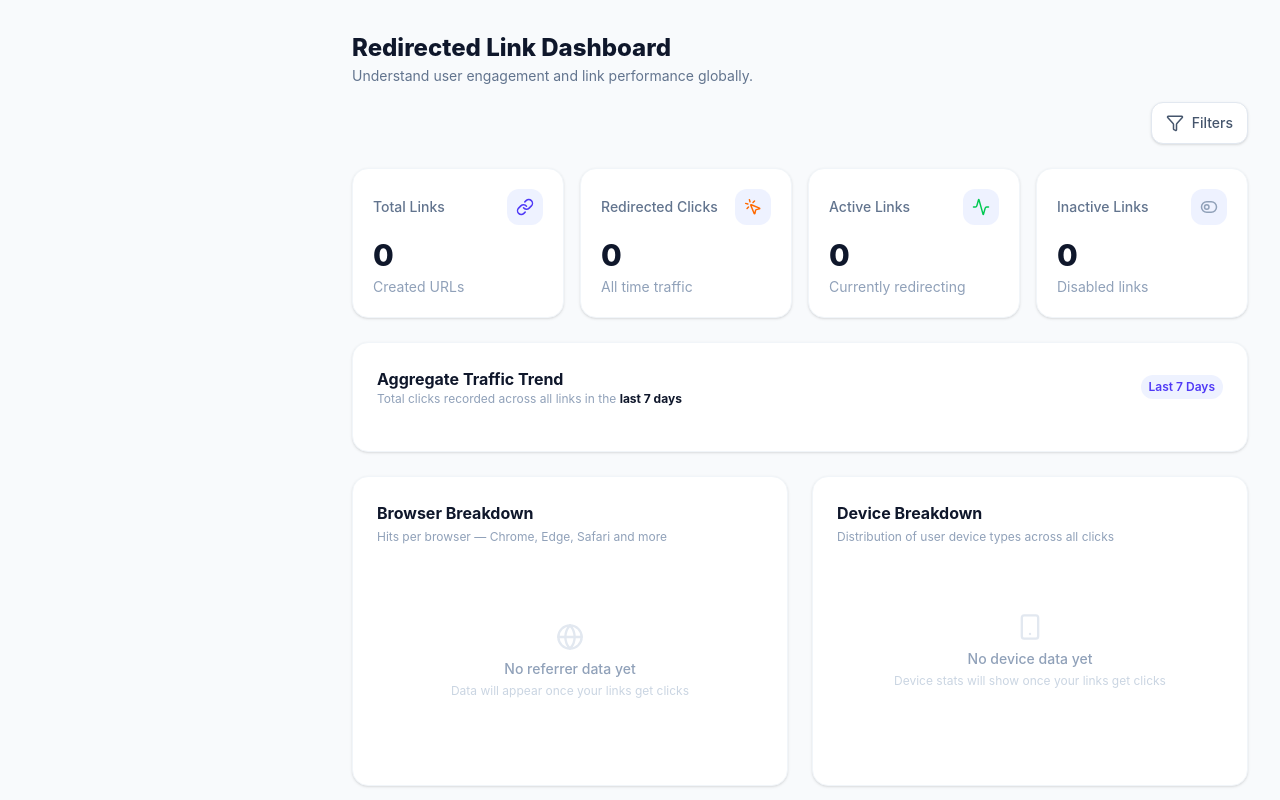
Test: AnalyticsDashboard - filters › the Filters button opens the panel, and Apply closes it
Click the button "Filters" at point(1199, 123), box [1151, 102, 1248, 144]
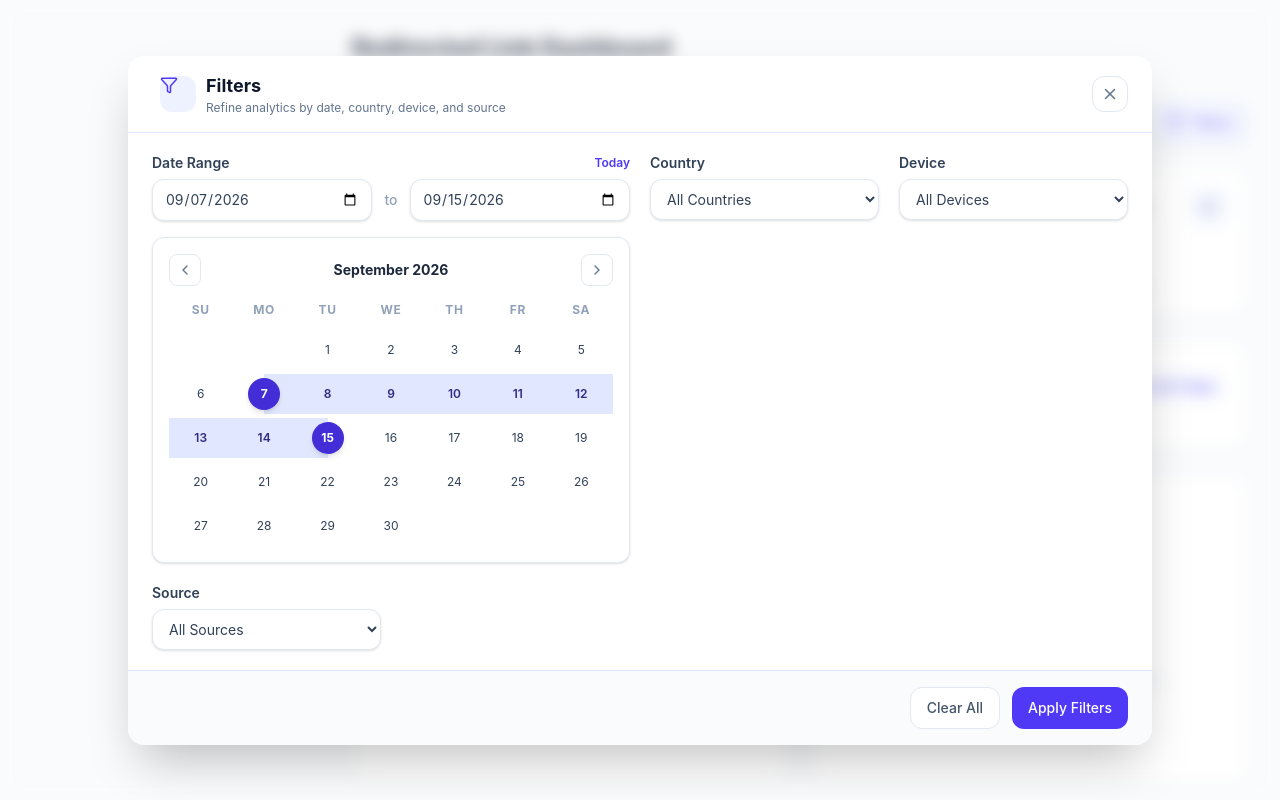
Expected: the dialog is shown
Click the button "Apply Filters" at point(1070, 708), box [1012, 686, 1128, 728]
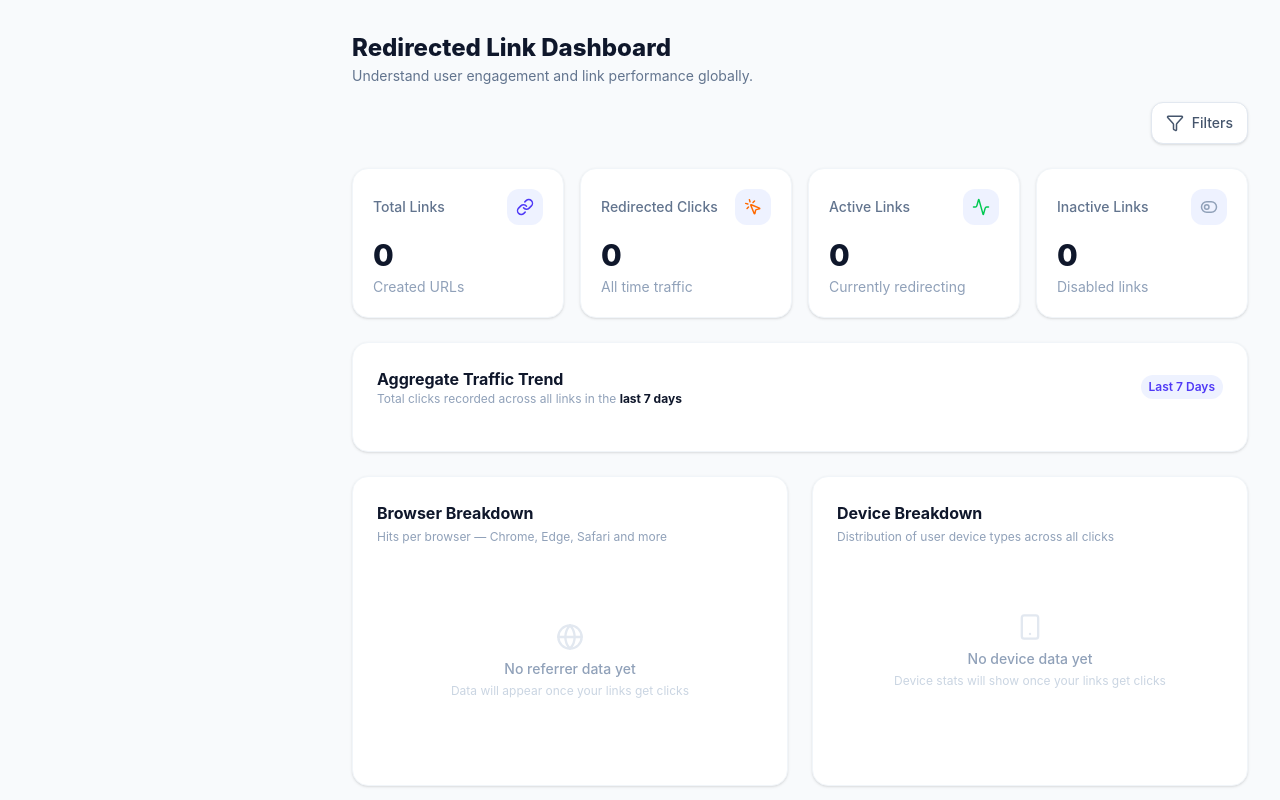
Expected: the dialog is gone
